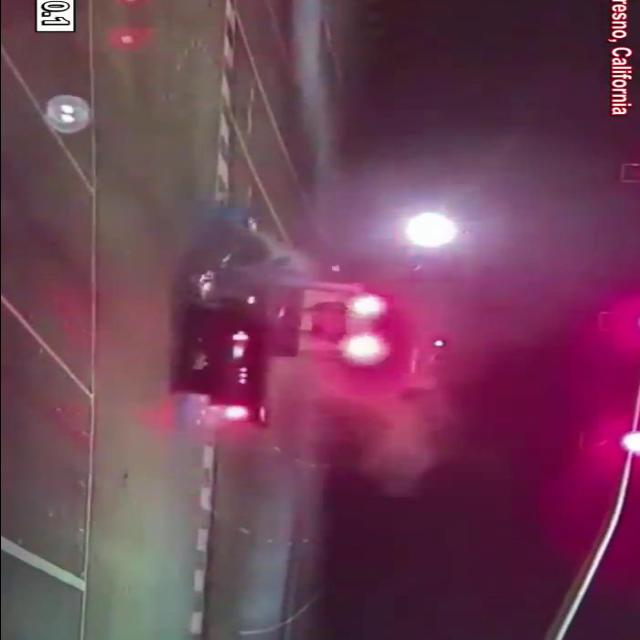accident: (156, 192, 396, 432)
